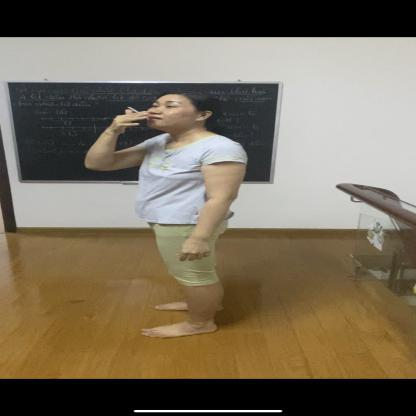cigarette: (126, 105, 140, 114)
person: (88, 82, 250, 352)
